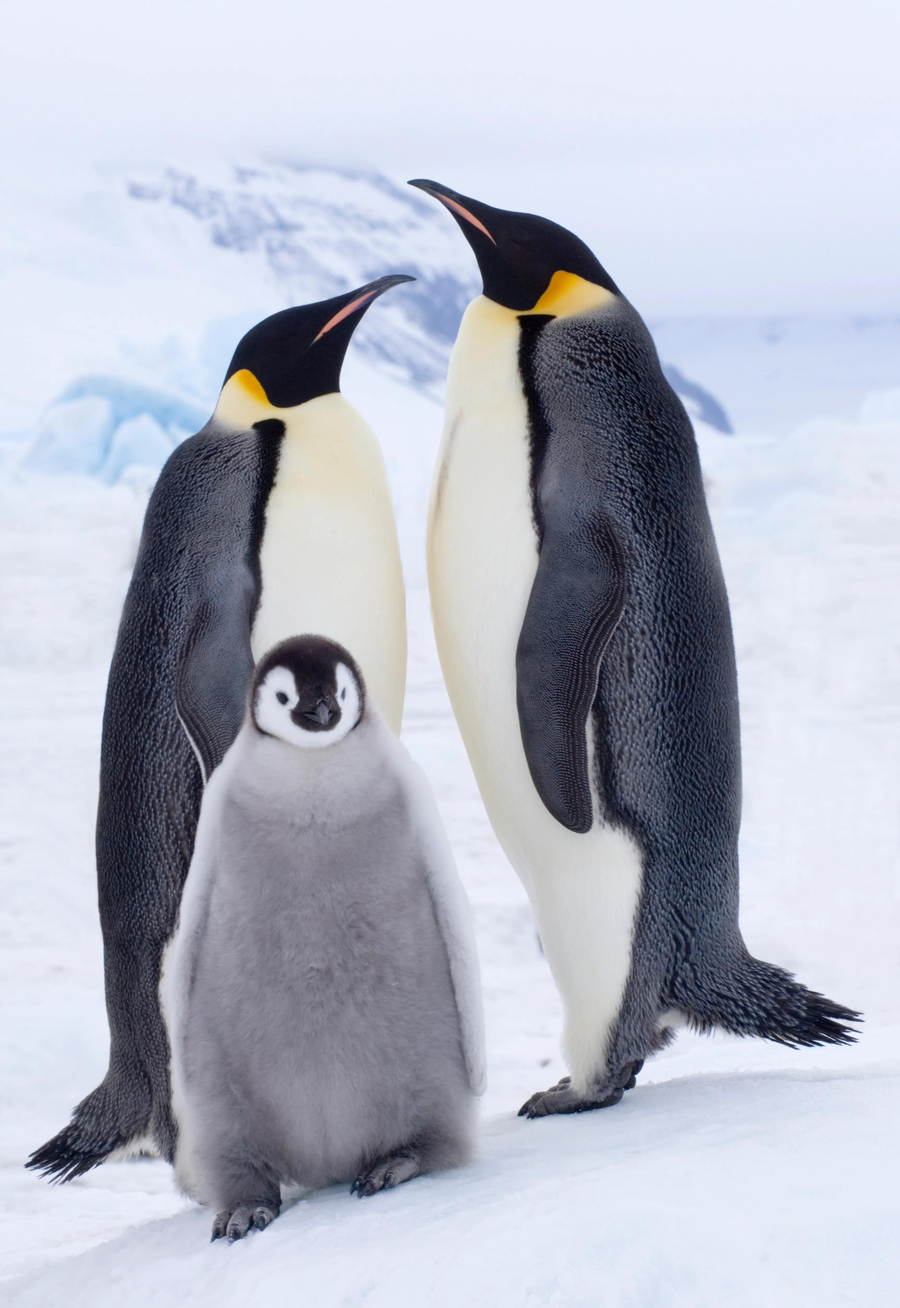Penguin: (411, 179, 856, 1116), (28, 276, 411, 1180), (164, 634, 485, 1239)
